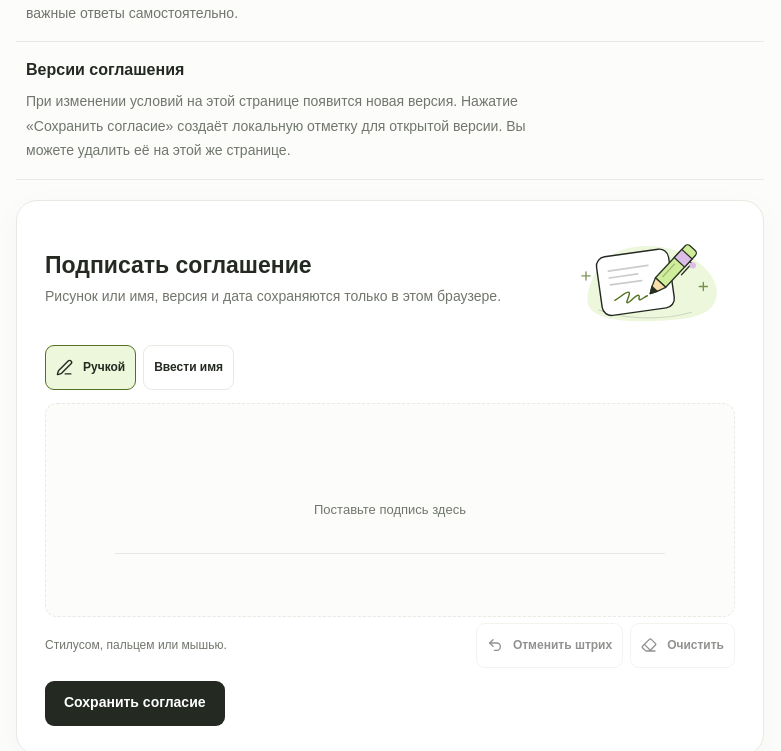
Test case: keeps the terms readable when access to local storage is denied
(page scrolled)
Click the button "Ввести имя": [189, 367] box x1=143 y1=345 x2=234 y2=390
(page scrolled)
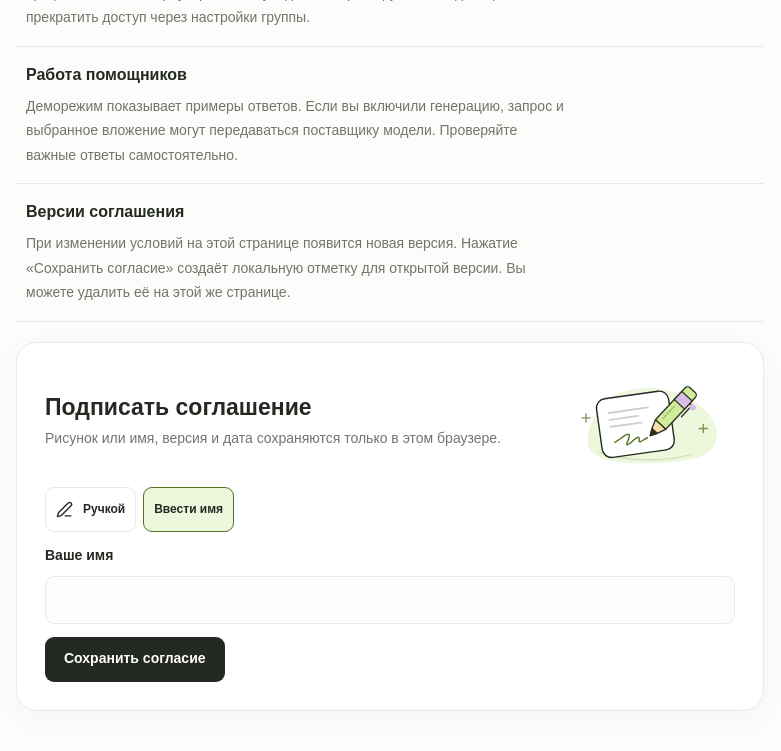
In the field labelled "Ваше имя": [390, 600] box x1=45 y1=576 x2=735 y2=624, type "Тестовый Пользователь"
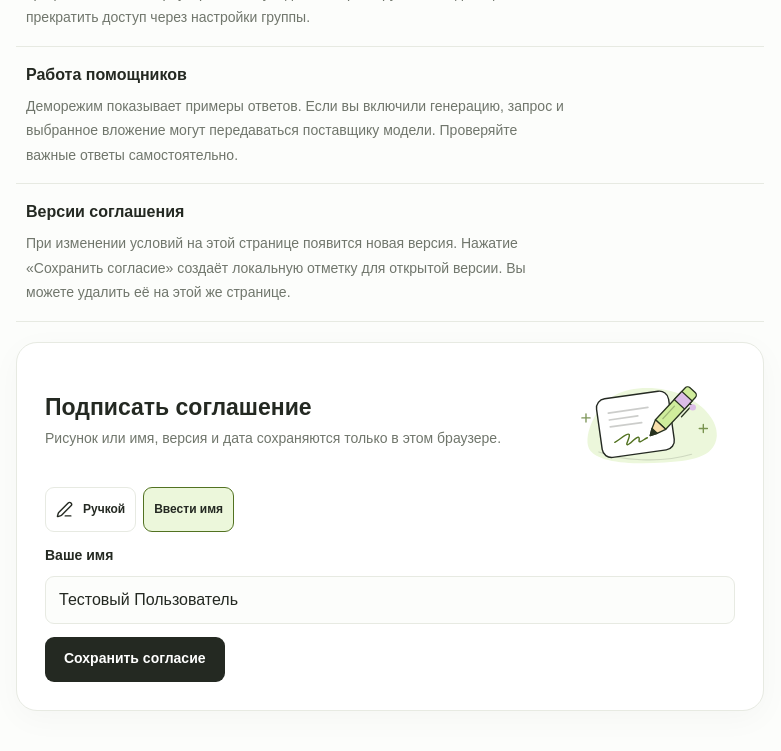
Click the button "Сохранить согласие": [135, 659] box x1=45 y1=637 x2=224 y2=682
(page scrolled)
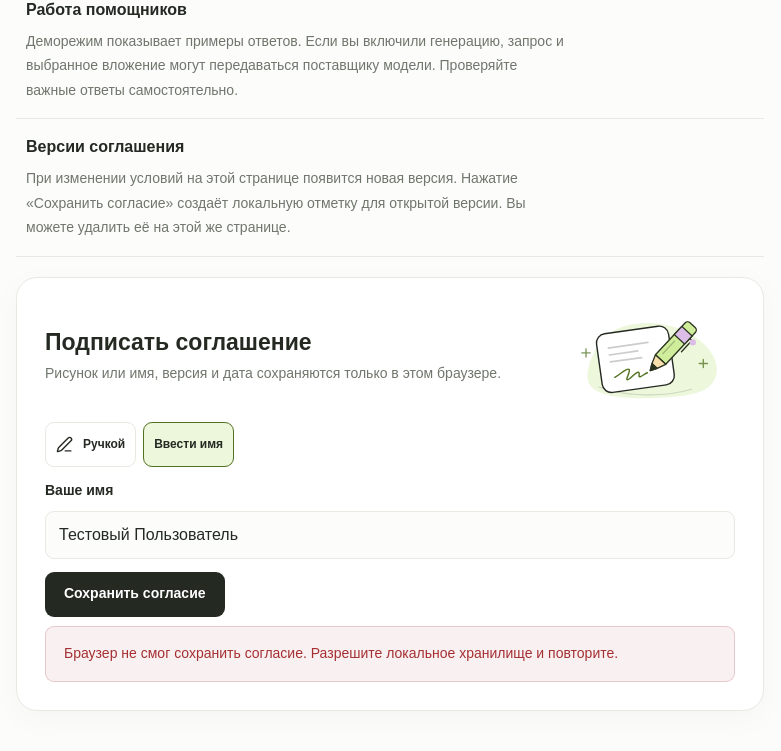
Result: the message shows "Браузер не смог сохранить согласие." at x1=64 y1=645 x2=618 y2=661
